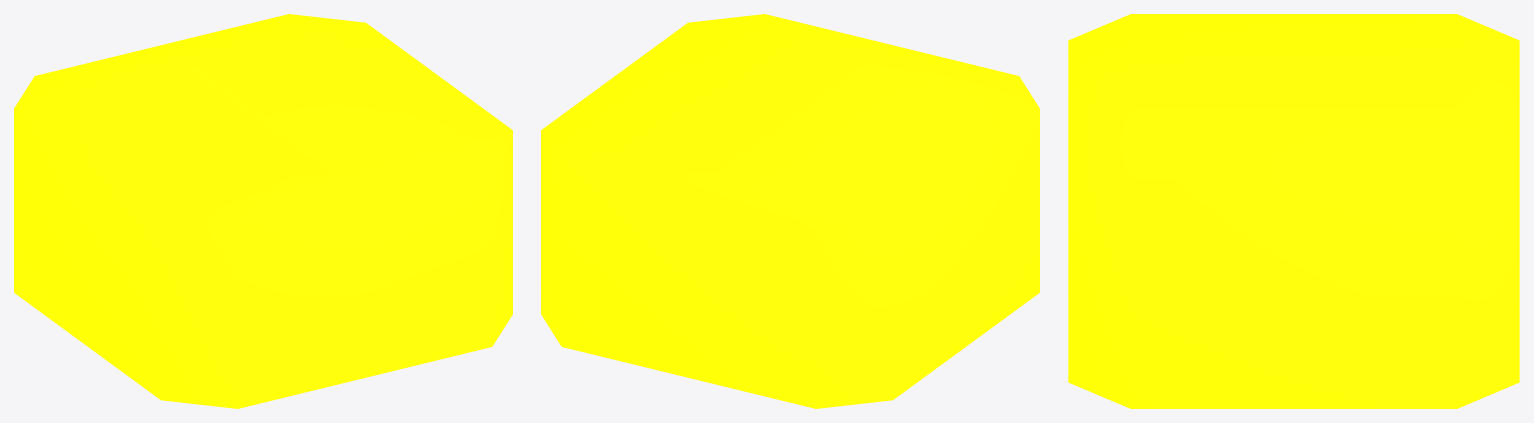
Rendered from column-cap.glb.
3 views of the same model, side by side, from view 1: azimuth 30°, elevation 25°; view 2: azimuth 150°, elevation 25°; view 3: azimuth 270°, elevation 25° (orthographic). The views are drawn at different scales.
Visible parts, largest first — view 1: ColumnFreeCap; view 2: ColumnFreeCap; view 3: ColumnFreeCap.
Part boxes in pixels (x1,y1,x2,y2): ColumnFreeCap: (14, 14, 512, 408); ColumnFreeCap: (541, 14, 1039, 408); ColumnFreeCap: (1068, 14, 1519, 408).
Bounding box in the file's own units: 0.4 × 0.2 × 0.4.
Materials: 1 (1 with a texture image).
